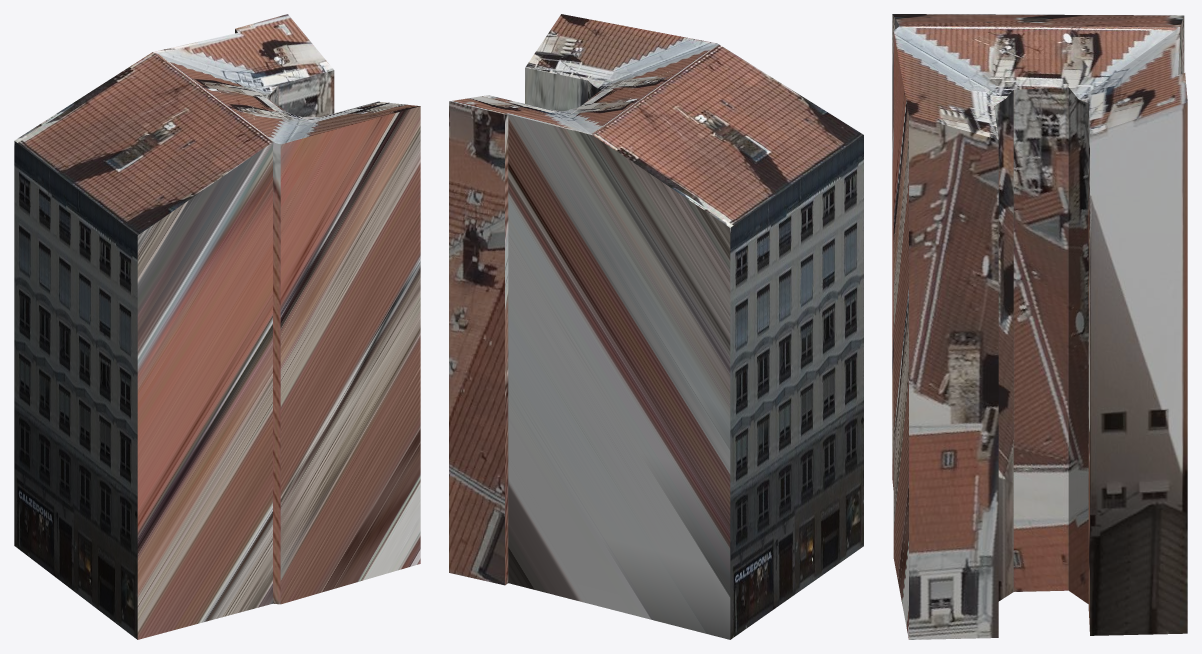
The picture shows the model from 3 angles, left to right: view 1: azimuth 30°, elevation 25°; view 2: azimuth 150°, elevation 25°; view 3: azimuth 270°, elevation 25°; orthographic projection. The views are drawn at different scales.
Visible parts, largest first — view 1: Z_UP; view 2: Z_UP; view 3: Z_UP.
Boxes of the visible parts, <box> form: Z_UP: <box>14,14,420,639</box>; Z_UP: <box>449,14,863,639</box>; Z_UP: <box>892,14,1187,639</box>.
Bounding box in the file's own units: 17.28 × 26.37 × 13.29.
Materials: 2 (1 with a texture image).
